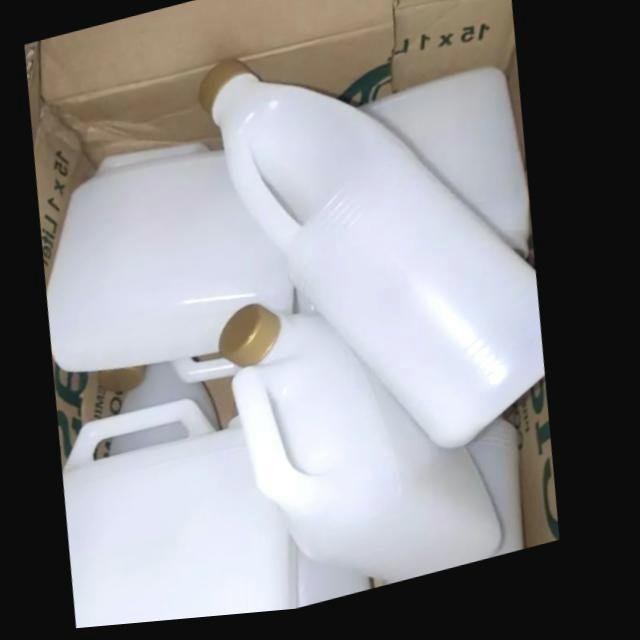plastic_bottle: (199, 64, 553, 460)
plastic_container: (225, 309, 514, 593), (51, 147, 304, 387), (71, 402, 310, 631)
